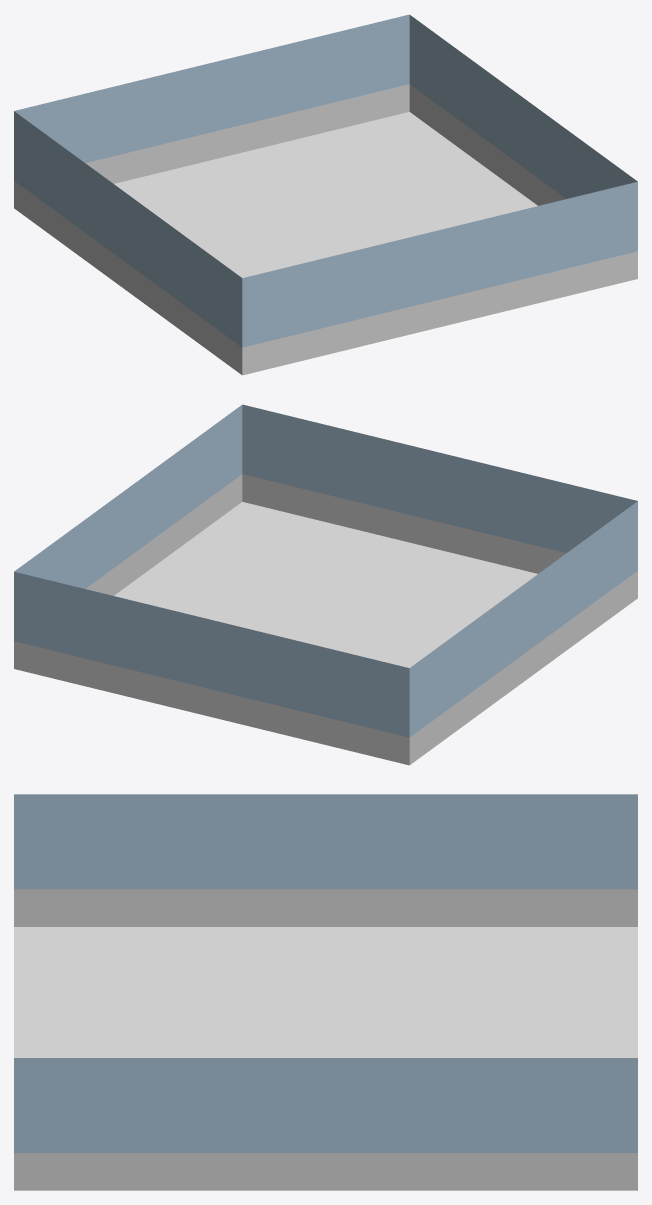
Rendered from Escenario.fbx.
3 renders of one model, top to bottom at view 1: azimuth 30°, elevation 25°; view 2: azimuth 150°, elevation 25°; view 3: azimuth 270°, elevation 25°, orthographic. The views are drawn at different scales.
Parts seen in each view (by area): view 1: Plane; view 2: Plane; view 3: Plane.
Part boxes in pixels (left/top/right/bottom): Plane: left=14, top=14, right=637, bottom=375; Plane: left=14, top=404, right=637, bottom=765; Plane: left=14, top=794, right=637, bottom=1190.
Bounding box in the file's own units: 800 × 800 × 188.
